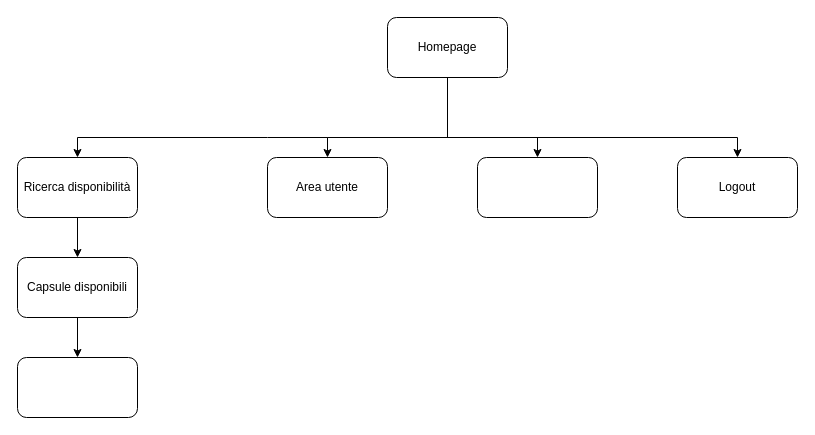
Some shapes in this 815 by 435 pixel diagram are drawn without their labels. The shapes that lost their labels are listed below. From the top down, each one's centre as x and y in pixels, then its label:
At [537,187]: "Prenotazioni".
At [77,387]: "Pagamento".
